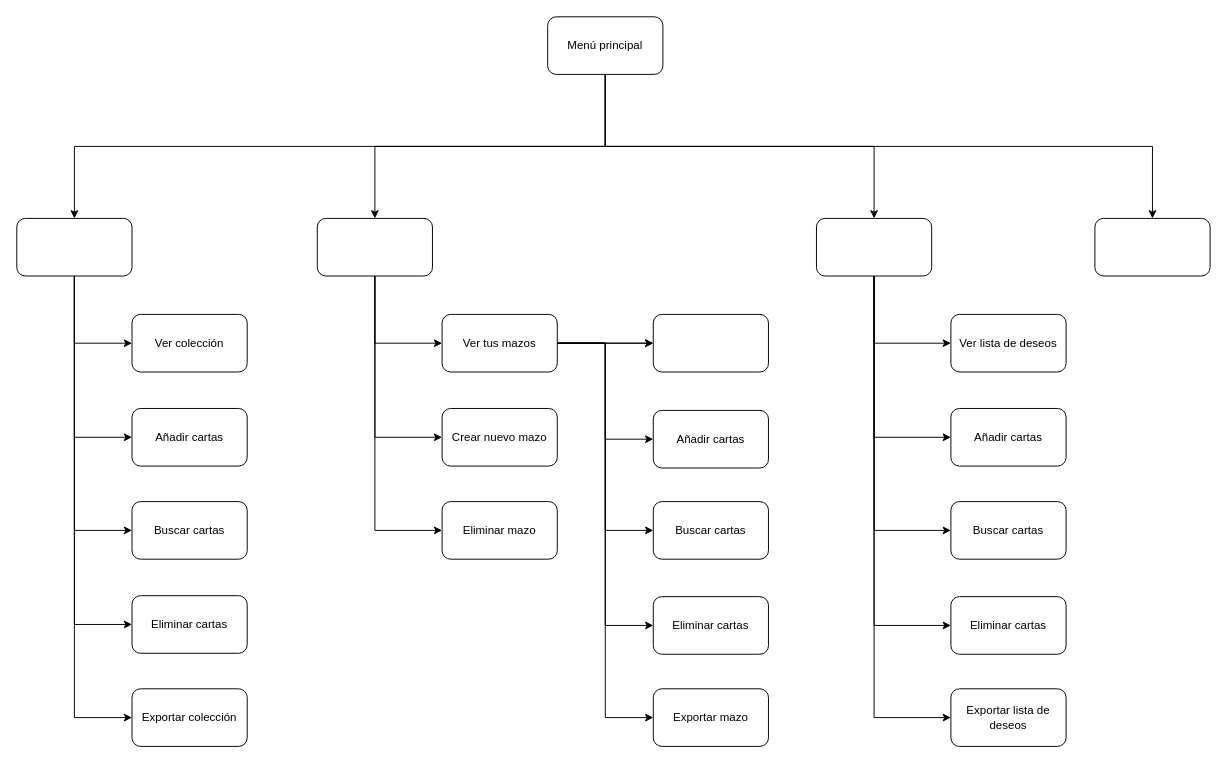
Image size: 1227x763. Some labels were removed from this diagram. Each missing label, with the centre of its shape:
Buscar cartas globales: the point at 1152,246
Tu colección: the point at 74,246
Tu lista de deseos: the point at 874,246
Tus mazos: the point at 374,246
Ver mazo: the point at 710,342
